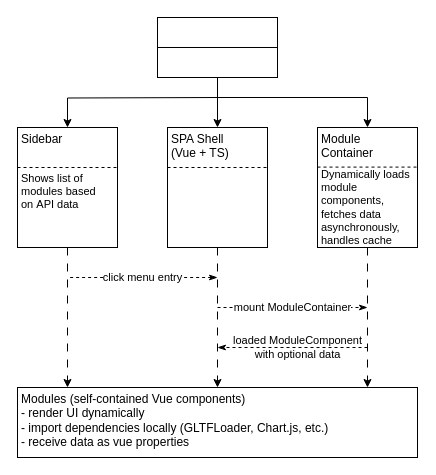
This 436x475 diagram has some shape labels left out. Each missing label, with the centre of its shape:
/api/module-data/...: [217,62]
Backend (Flask): [217,32]
Handles routing, layout, styling, reactivity: [217,207]
